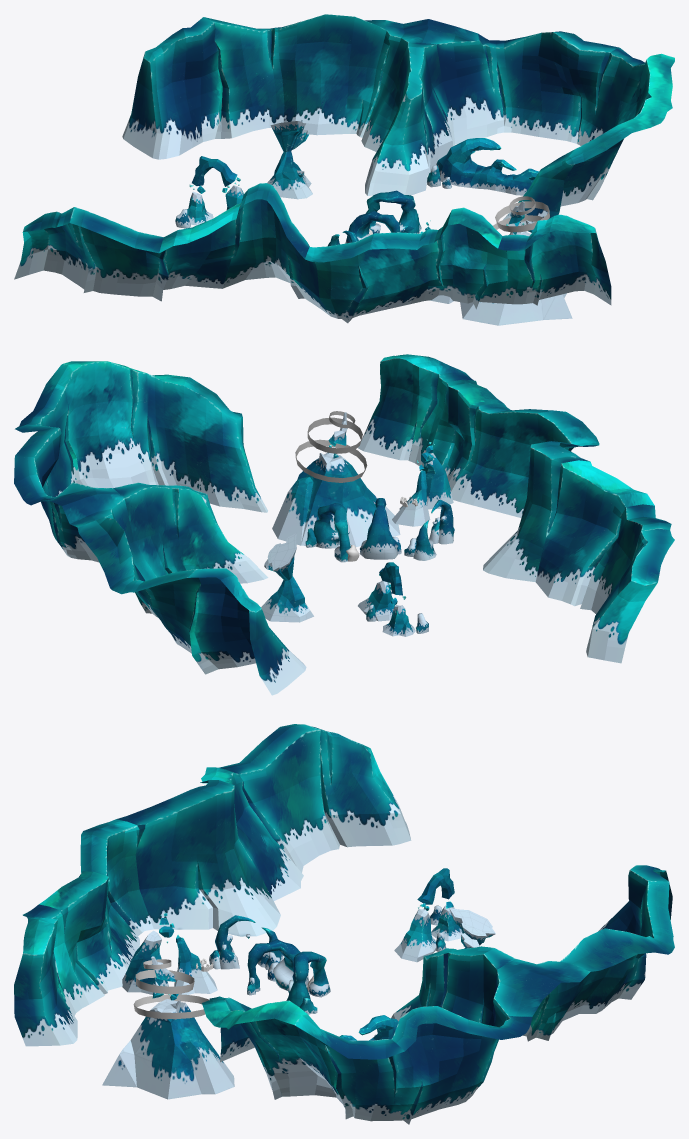
File: cliffs.fbx
3 views of the same model, one above another, from view 1: azimuth 30°, elevation 25°; view 2: azimuth 150°, elevation 25°; view 3: azimuth 270°, elevation 25° (orthographic). The views are drawn at different scales.
Parts seen in each view (by area): view 1: Cliff.det.bevel, Pikes, Large mountain a, Mountain 2, Arch3, Arch2, Arch 4.1, cloud 2, Arch 4.3; view 2: Cliff.det.bevel, Large mountain a, Mountain 2, Arch3, Arch2, Mountain 1b, Mountain 1a, Arch 4.2, cloud 3, cloud 2, Arch 4.3, Arch1.1 (+1 smaller); view 3: Cliff.det.bevel, Large mountain a, Arch3, Arch2, Arch 4.2, Mountain 1a, Mountain 1b, Mountain 2, cloud 3, cloud 2, Arch 4.1, Pikes (+1 smaller).
Boxes of the visible parts, box(x1,y1,x2,y2) form: Cliff.det.bevel: box(14, 14, 674, 323); Pikes: box(436, 138, 538, 195); Large mountain a: box(460, 224, 572, 325); Mountain 2: box(267, 121, 312, 199); Arch3: box(365, 190, 419, 233); Arch2: box(345, 210, 400, 243); Arch 4.1: box(192, 156, 237, 186); cloud 2: box(495, 201, 549, 232); Arch 4.3: box(187, 191, 213, 225); Cliff.det.bevel: box(14, 354, 674, 695); Large mountain a: box(272, 452, 400, 546); Mountain 2: box(261, 533, 313, 622); Arch3: box(313, 503, 350, 562); Arch2: box(359, 498, 398, 559); Mountain 1b: box(392, 470, 430, 526); Mountain 1a: box(416, 453, 453, 509); Arch 4.2: box(358, 580, 395, 621); cloud 3: box(295, 439, 367, 482); cloud 2: box(307, 417, 362, 453); Arch 4.3: box(382, 605, 415, 636); Arch1.1: box(431, 499, 453, 544); Cliff.det.bevel: box(14, 724, 674, 1124); Large mountain a: box(102, 999, 234, 1099); Arch3: box(286, 951, 330, 1006); Arch2: box(247, 939, 308, 991); Arch 4.2: box(394, 909, 436, 962); Mountain 1a: box(122, 930, 168, 994); Mountain 1b: box(174, 937, 217, 994); Mountain 2: box(449, 907, 495, 948); cloud 3: box(133, 994, 208, 1019); cloud 2: box(135, 970, 194, 994); Arch 4.1: box(417, 868, 454, 904); Pikes: box(339, 1015, 398, 1040).
Bounding box in the file's own units: 34645 × 8320 × 29234.
